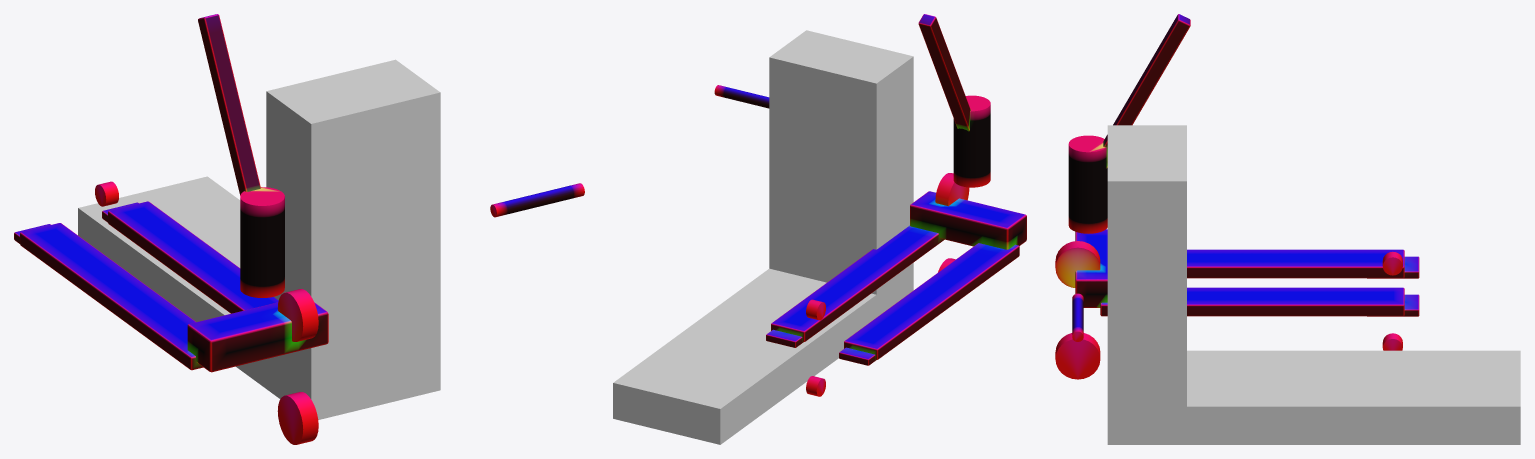
The model's file is prop_pallet_jack.fbx.
The picture shows the model from 3 angles, left to right: view 1: azimuth 30°, elevation 25°; view 2: azimuth 150°, elevation 25°; view 3: azimuth 270°, elevation 25°; orthographic projection. The views are drawn at different scales.
Visible parts, largest first — view 1: COL_1, prop_pallet_jack, COL_0; view 2: COL_1, prop_pallet_jack, COL_0; view 3: COL_0, prop_pallet_jack, COL_1.
Part boxes in pixels (x1,y1,x2,y2): COL_1: (266,59,440,419); prop_pallet_jack: (14,14,584,444); COL_0: (78,176,302,398); COL_1: (769,30,913,295); prop_pallet_jack: (714,14,1026,396); COL_0: (613,268,906,444); COL_0: (1123,350,1520,444); prop_pallet_jack: (1055,14,1419,379); COL_1: (1107,125,1186,444).
Bounding box in the file's own units: 1.46 × 1.44 × 1.76.
